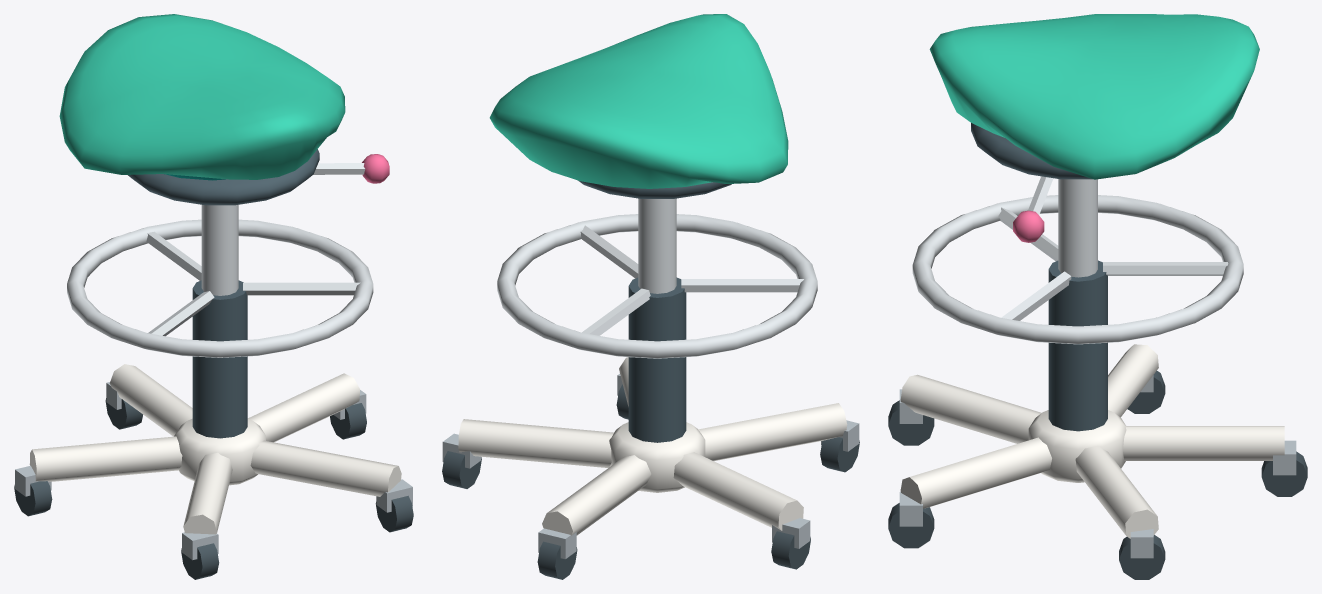
Rendered from ergo_stool.glb.
3 views of the same model, side by side, from view 1: azimuth 30°, elevation 25°; view 2: azimuth 150°, elevation 25°; view 3: azimuth 270°, elevation 25° (orthographic). The views are drawn at different scales.
Visible parts, largest first — view 1: ErgoStool; view 2: ErgoStool; view 3: ErgoStool.
Part boxes in pixels (bbox=[...]): ErgoStool: bbox=[14, 14, 413, 579]; ErgoStool: bbox=[442, 14, 859, 579]; ErgoStool: bbox=[888, 14, 1307, 579].
Bounding box in the file's own units: 0.5147 × 0.6095 × 0.5083.
